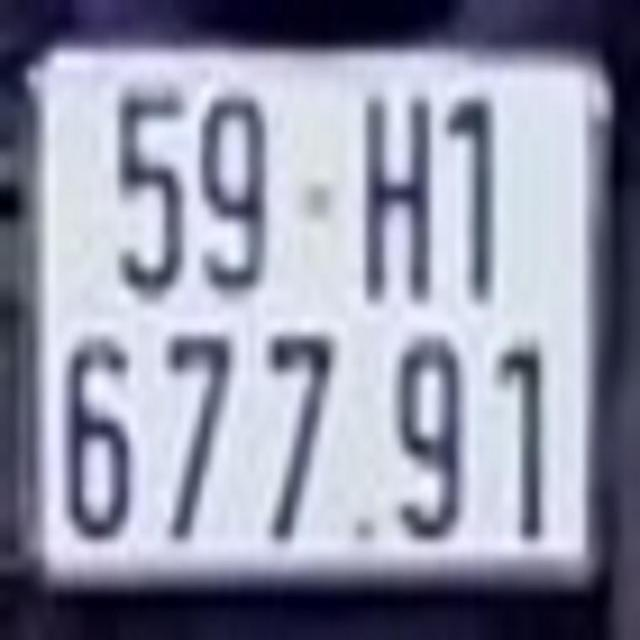1: (482, 333, 554, 546), (444, 91, 508, 304)
5: (108, 90, 190, 298)
6: (52, 323, 136, 543)
7: (258, 324, 338, 543), (156, 334, 232, 542)
9: (382, 324, 472, 542), (196, 91, 272, 296)
H: (354, 86, 442, 308)
